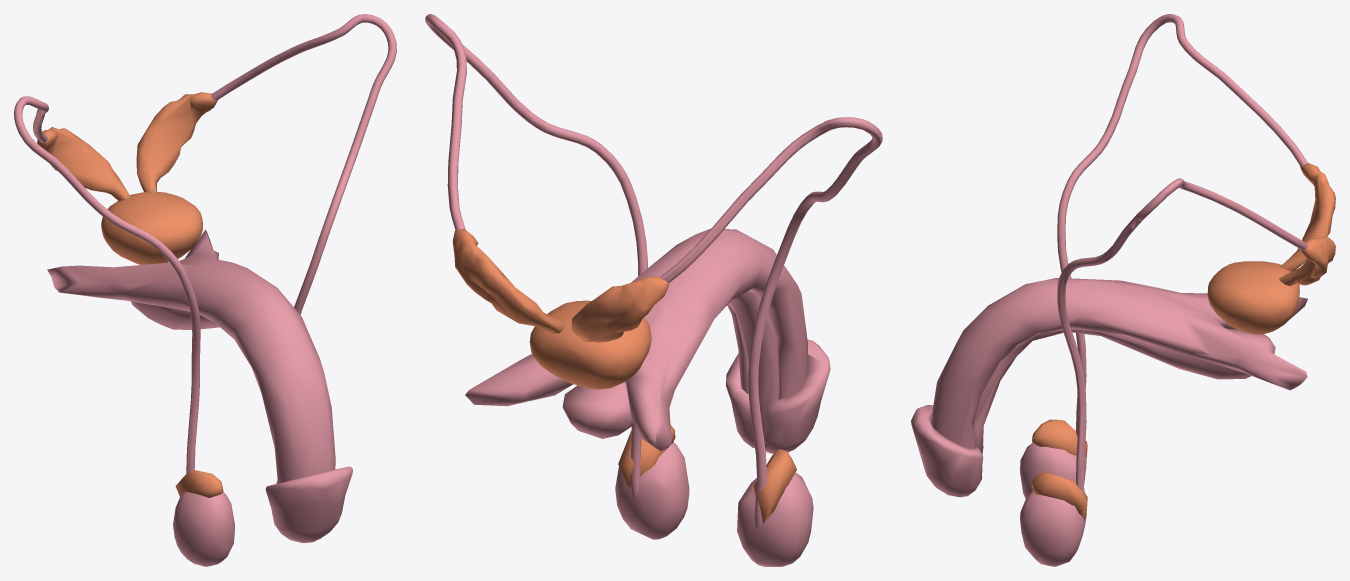
The model's file is reproductive.glb.
The picture shows the model from 3 angles, left to right: view 1: azimuth 30°, elevation 25°; view 2: azimuth 150°, elevation 25°; view 3: azimuth 270°, elevation 25°; orthographic projection. The views are drawn at different scales.
Visible parts, largest first — view 1: Mucosa component 00986 | anatomy_00986, Gland component 00851 | anatomy_00851, Mucosa component 00992 | anatomy_00992, Mucosa component 00989 | anatomy_00989, Mucosa component 00991 | anatomy_00991, Gland component 00852 | anatomy_00852, Mucosa component 00987 | anatomy_00987, Gland component 00853 | anatomy_00853, Mucosa component 00990 | anatomy_00990, Gland component 00850 | anatomy_00850; view 2: Mucosa component 00986 | anatomy_00986, Mucosa component 00992 | anatomy_00992, Mucosa component 00991 | anatomy_00991, Gland component 00851 | anatomy_00851, Mucosa component 00990 | anatomy_00990, Mucosa component 00989 | anatomy_00989, Mucosa component 00987 | anatomy_00987, Mucosa component 00988 | anatomy_00988, Gland component 00852 | anatomy_00852, Gland component 00853 | anatomy_00853, Gland component 00850 | anatomy_00850, Gland component 00849 | anatomy_00849; view 3: Mucosa component 00986 | anatomy_00986, Gland component 00851 | anatomy_00851, Mucosa component 00992 | anatomy_00992, Mucosa component 00991 | anatomy_00991, Mucosa component 00990 | anatomy_00990, Mucosa component 00988 | anatomy_00988, Mucosa component 00989 | anatomy_00989, Gland component 00853 | anatomy_00853, Mucosa component 00987 | anatomy_00987, Gland component 00852 | anatomy_00852, Gland component 00849 | anatomy_00849, Gland component 00850 | anatomy_00850.
Boxes of the visible parts, bbox=[...] form: Mucosa component 00986 | anatomy_00986: bbox=[47, 229, 335, 483]; Gland component 00851 | anatomy_00851: bbox=[101, 191, 202, 264]; Mucosa component 00992 | anatomy_00992: bbox=[14, 96, 200, 473]; Mucosa component 00989 | anatomy_00989: bbox=[265, 466, 352, 543]; Mucosa component 00991 | anatomy_00991: bbox=[211, 14, 396, 314]; Gland component 00852 | anatomy_00852: bbox=[136, 92, 217, 192]; Mucosa component 00987 | anatomy_00987: bbox=[173, 491, 234, 566]; Gland component 00853 | anatomy_00853: bbox=[37, 127, 130, 200]; Mucosa component 00990 | anatomy_00990: bbox=[131, 301, 219, 329]; Gland component 00850 | anatomy_00850: bbox=[175, 470, 223, 497]; Mucosa component 00986 | anatomy_00986: bbox=[465, 228, 807, 450]; Mucosa component 00992 | anatomy_00992: bbox=[660, 117, 882, 528]; Mucosa component 00991 | anatomy_00991: bbox=[425, 14, 647, 497]; Gland component 00851 | anatomy_00851: bbox=[529, 300, 651, 389]; Mucosa component 00990 | anatomy_00990: bbox=[562, 291, 778, 449]; Mucosa component 00989 | anatomy_00989: bbox=[726, 339, 830, 453]; Mucosa component 00987 | anatomy_00987: bbox=[737, 472, 813, 566]; Mucosa component 00988 | anatomy_00988: bbox=[615, 442, 689, 539]; Gland component 00852 | anatomy_00852: bbox=[452, 229, 564, 334]; Gland component 00853 | anatomy_00853: bbox=[571, 276, 669, 342]; Gland component 00850 | anatomy_00850: bbox=[753, 449, 796, 523]; Gland component 00849 | anatomy_00849: bbox=[618, 425, 675, 490]; Mucosa component 00986 | anatomy_00986: bbox=[930, 278, 1307, 448]; Gland component 00851 | anatomy_00851: bbox=[1207, 261, 1299, 334]; Mucosa component 00992 | anatomy_00992: bbox=[1057, 14, 1307, 472]; Mucosa component 00991 | anatomy_00991: bbox=[1057, 178, 1307, 522]; Mucosa component 00990 | anatomy_00990: bbox=[973, 329, 1275, 485]; Mucosa component 00988 | anatomy_00988: bbox=[1020, 491, 1085, 566]; Mucosa component 00989 | anatomy_00989: bbox=[911, 405, 983, 497]; Gland component 00853 | anatomy_00853: bbox=[1281, 163, 1335, 271]; Mucosa component 00987 | anatomy_00987: bbox=[1020, 443, 1085, 498]; Gland component 00852 | anatomy_00852: bbox=[1280, 236, 1335, 286]; Gland component 00849 | anatomy_00849: bbox=[1032, 472, 1087, 519]; Gland component 00850 | anatomy_00850: bbox=[1032, 419, 1087, 458].
Size of the model in its own units: 2.43 by 2.76 by 2.41.
